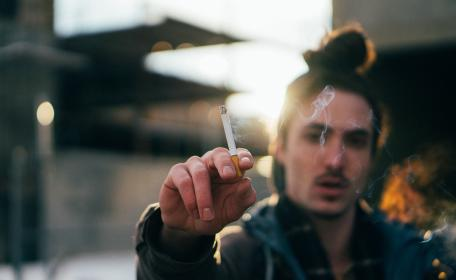cigarette: (215, 103, 247, 178)
